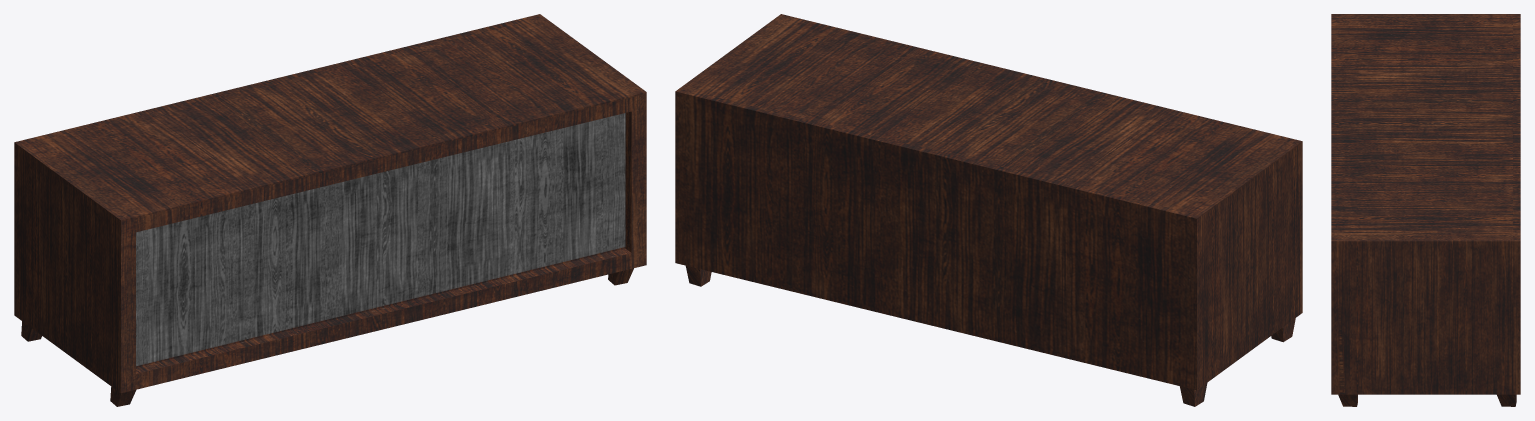
File: Office desk.FBX
3 renders of one model, left to right at view 1: azimuth 30°, elevation 25°; view 2: azimuth 150°, elevation 25°; view 3: azimuth 270°, elevation 25°, orthographic. The views are drawn at different scales.
Parts seen in each view (by area): view 1: Office_Desk01; view 2: Office_Desk01; view 3: Office_Desk01.
Part boxes in pixels (left/top/right/bottom): Office_Desk01: left=14, top=14, right=646, bottom=406; Office_Desk01: left=675, top=14, right=1302, bottom=406; Office_Desk01: left=1331, top=14, right=1520, bottom=406.
Size of the model in its own units: 60.99 by 21.37 by 21.44.
1 material, 1 textured.
